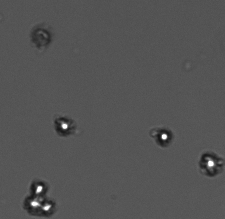Dead Cell: (31, 26, 53, 48)
Living Cell: (200, 152, 221, 175), (53, 116, 75, 135), (153, 127, 173, 145), (25, 194, 41, 214), (31, 179, 50, 195), (40, 199, 57, 215)
